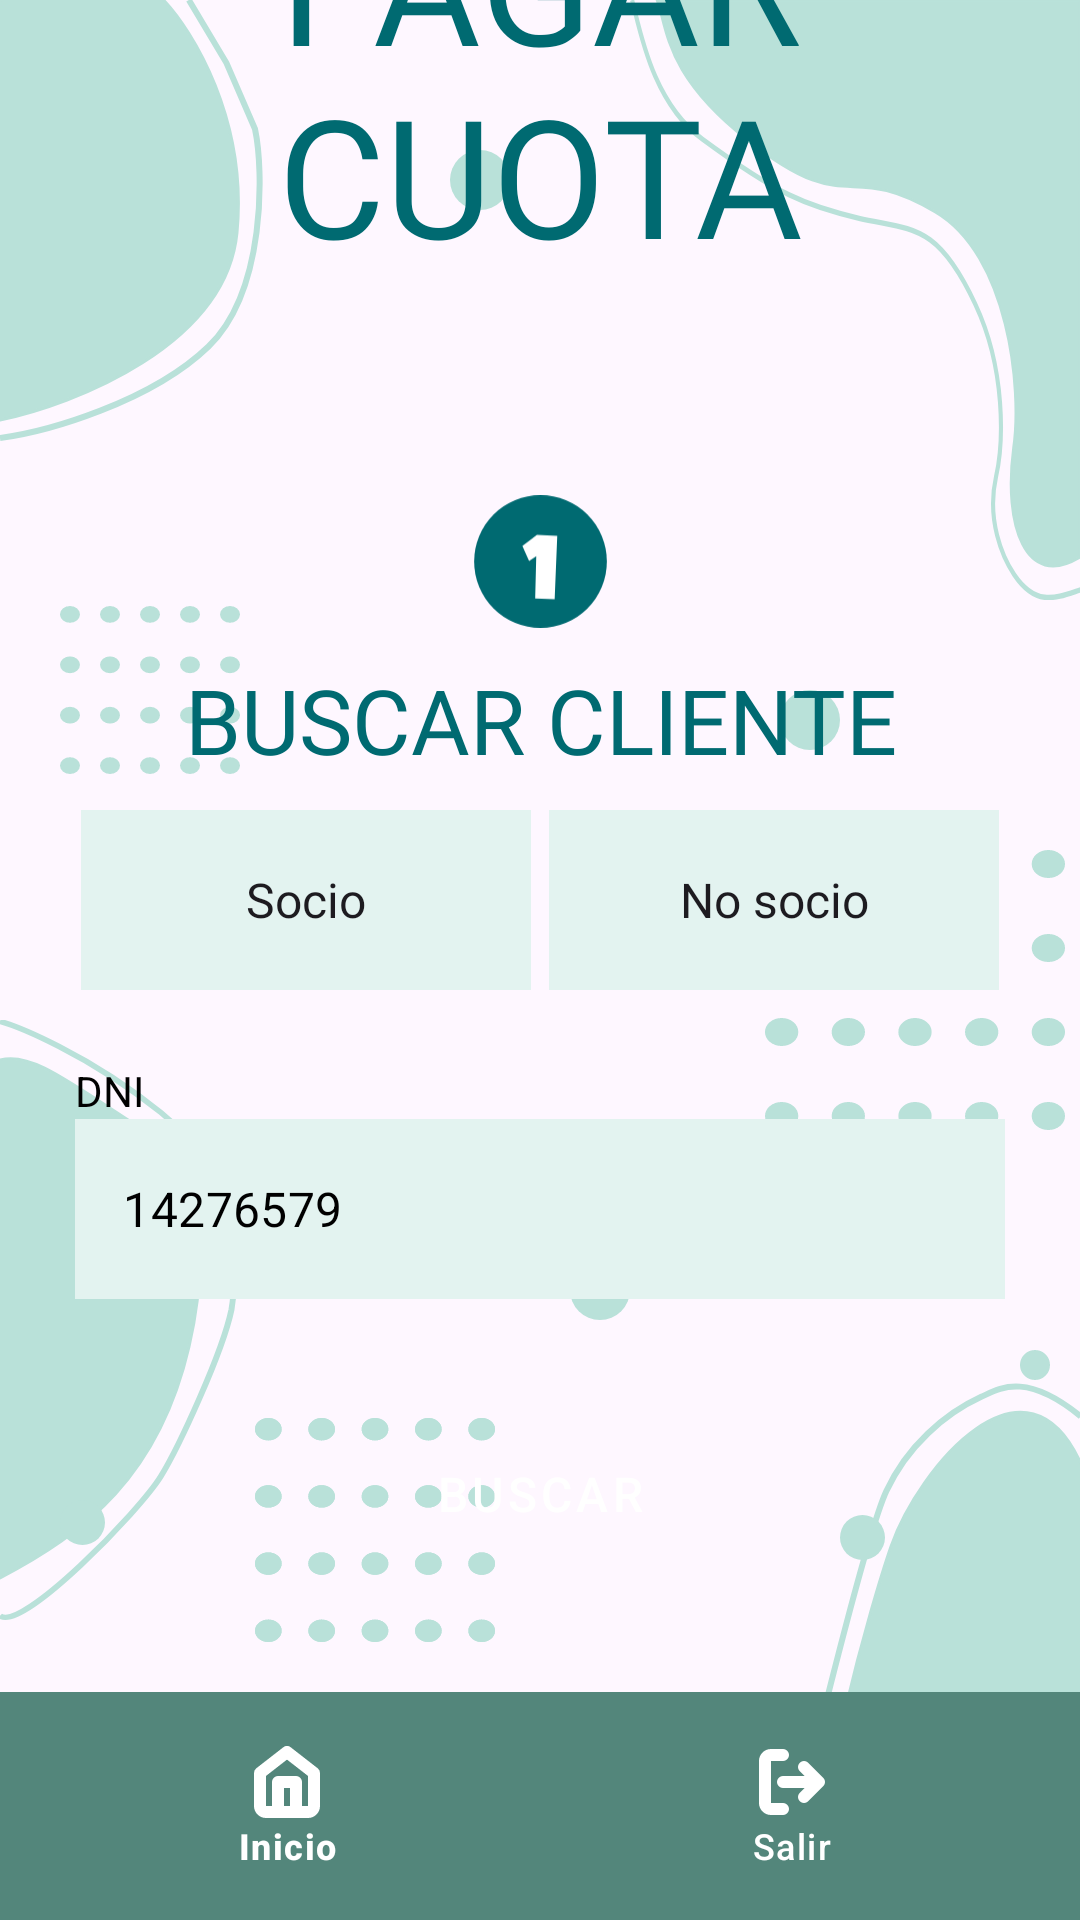

Screen size 1080px x 1920px. Icon name, then its center in pixels as (x=x, y=y):
step one: (x=540, y=561)
